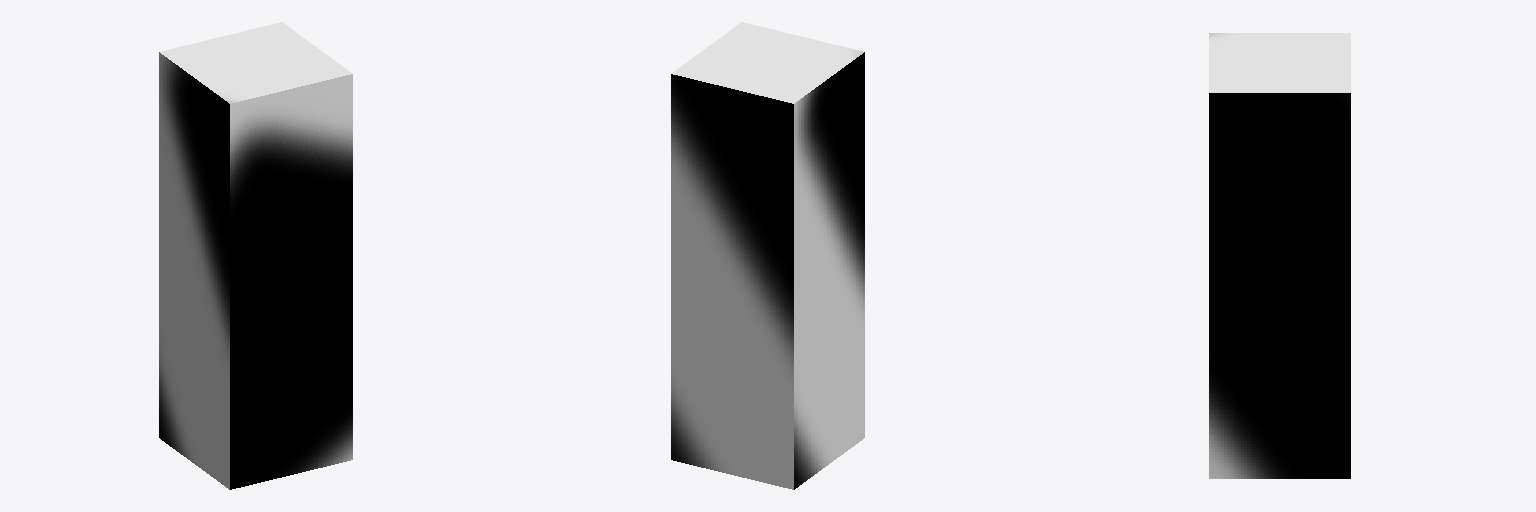
3 renders of one model, left to right at view 1: azimuth 30°, elevation 25°; view 2: azimuth 150°, elevation 25°; view 3: azimuth 270°, elevation 25°, orthographic.
Visible parts, largest first — view 1: 左前腕; view 2: 左前腕; view 3: 左前腕.
Boxes of the visible parts, x1,y1,x2,y2 form: 左前腕: [159, 22, 352, 489]; 左前腕: [671, 22, 864, 489]; 左前腕: [1209, 33, 1350, 478].
Size of the model in its own units: 2 by 6 by 2.
Materials: 1 (1 with a texture image).